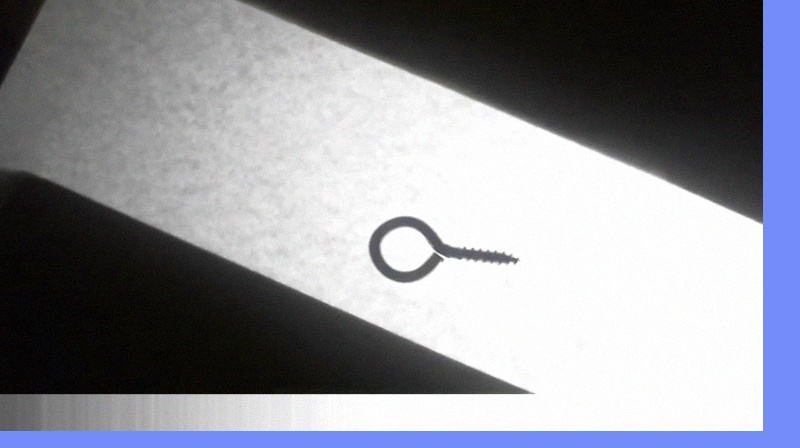O001: (361, 212, 524, 284)
